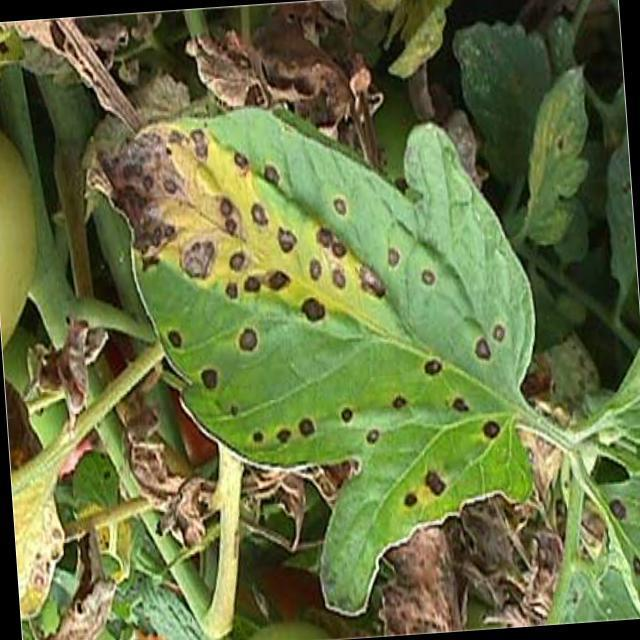Bacterial Spot: (136, 120, 523, 467)
